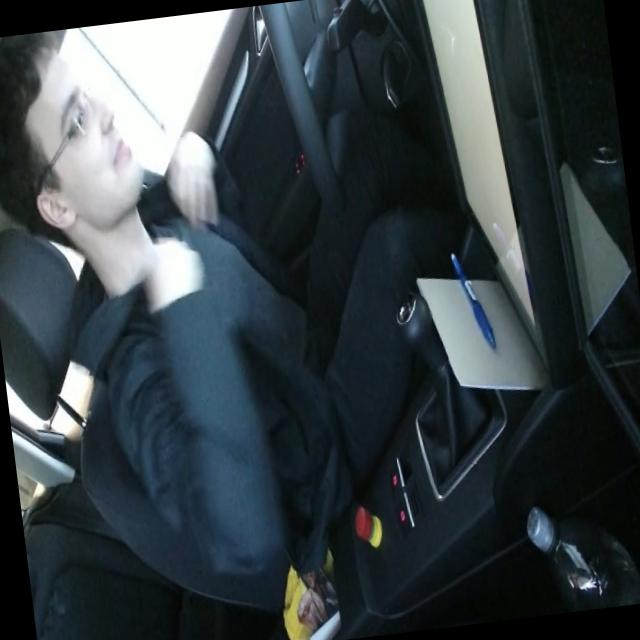pen: (448, 244, 496, 354)
